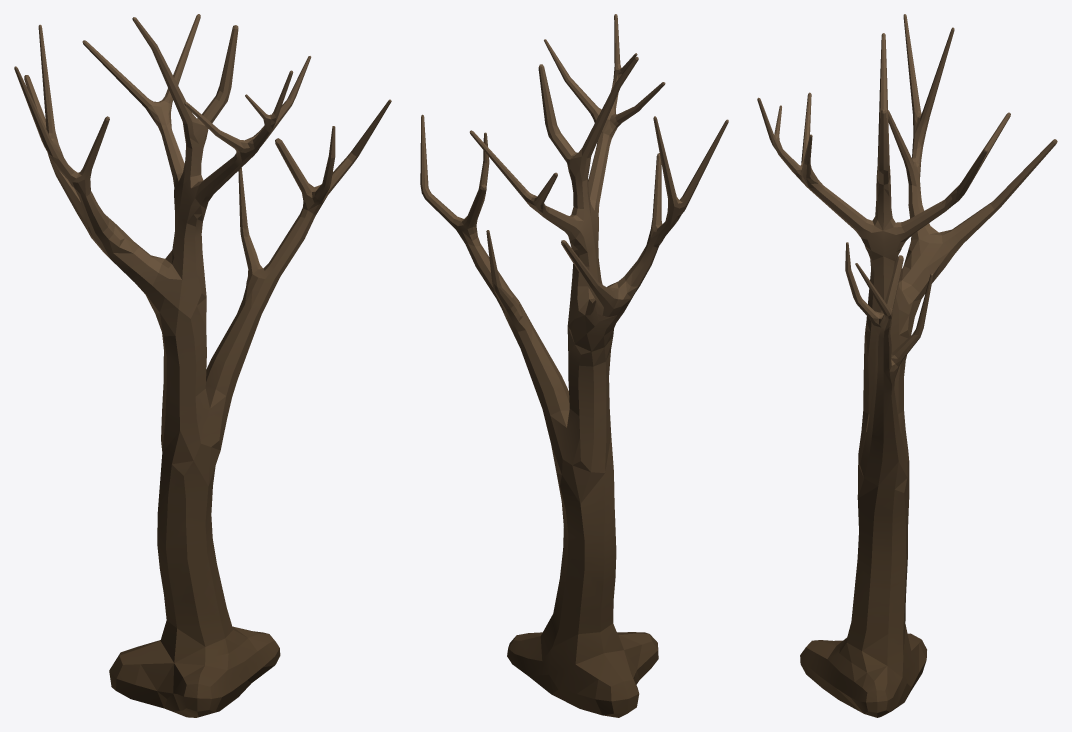
Rendered from Tree_10.fbx.
The picture shows the model from 3 angles, left to right: view 1: azimuth 30°, elevation 25°; view 2: azimuth 150°, elevation 25°; view 3: azimuth 270°, elevation 25°; orthographic projection. The views are drawn at different scales.
Parts seen in each view (by area): view 1: Tree_10_LOD0; view 2: Tree_10_LOD0; view 3: Tree_10_LOD0.
Part boxes in pixels (bbox=[...]): Tree_10_LOD0: bbox=[14, 14, 391, 717]; Tree_10_LOD0: bbox=[420, 14, 728, 717]; Tree_10_LOD0: bbox=[757, 14, 1057, 717].
Size of what is drawn, in the model's own units: 3.38 by 6.41 by 2.71.
